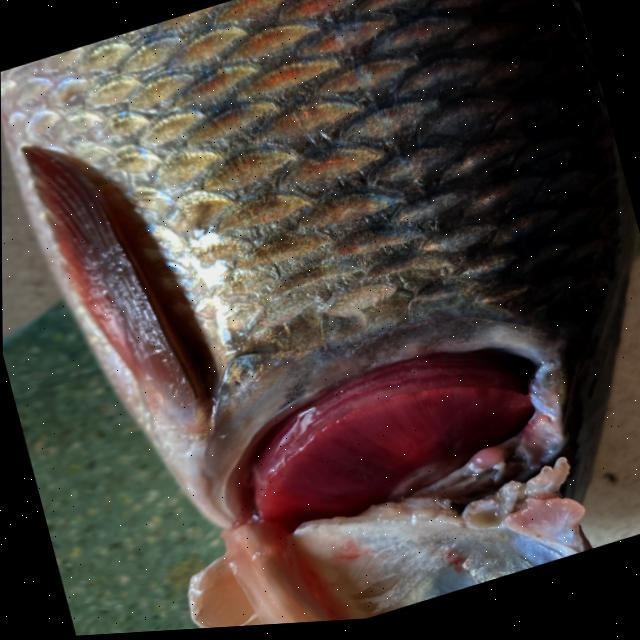Fresh: (153, 284, 610, 596)
